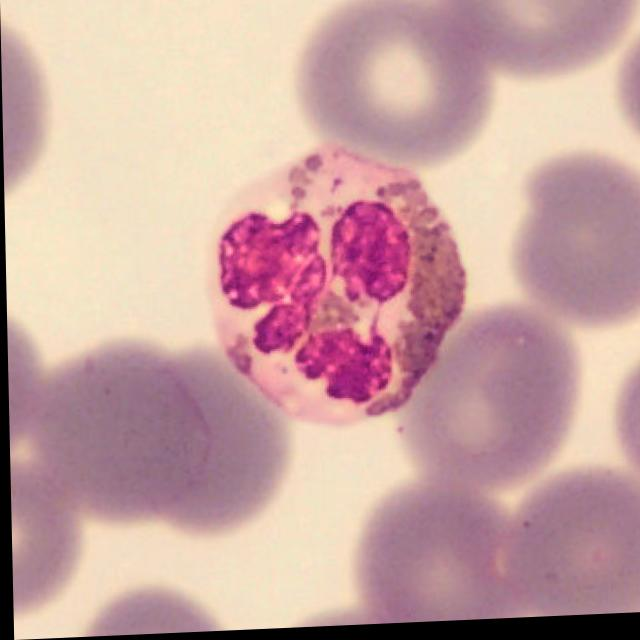Eosinofilo: (202, 147, 466, 431)
